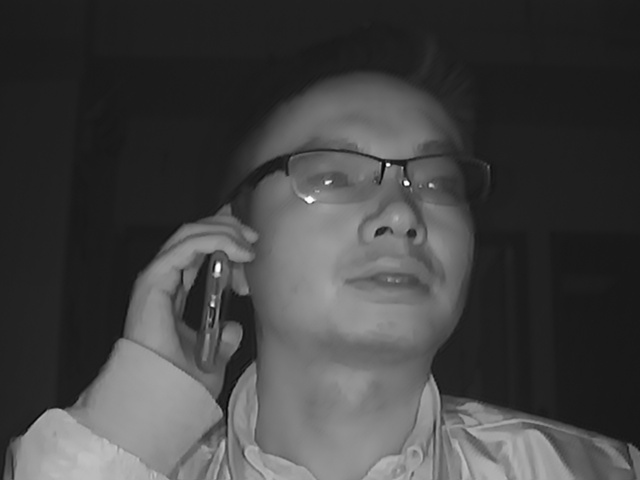hand: (131, 214, 261, 363)
